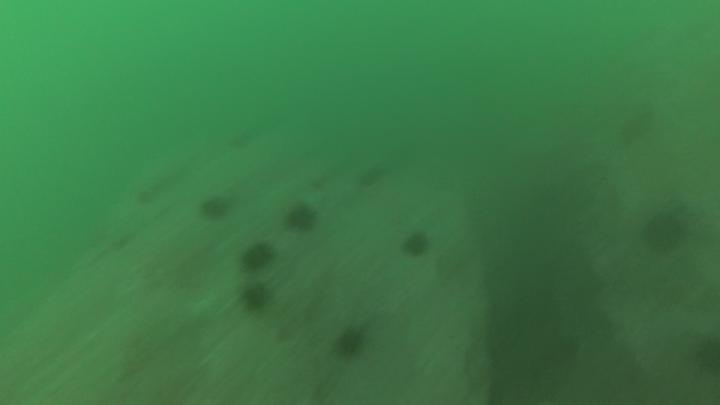echinus: (640, 209, 689, 256), (615, 108, 657, 149), (331, 324, 369, 362), (690, 332, 720, 378), (282, 200, 320, 235), (238, 240, 276, 273), (239, 281, 273, 315), (197, 193, 234, 223), (225, 124, 263, 153), (355, 161, 391, 191), (399, 229, 432, 261), (133, 185, 159, 208)
